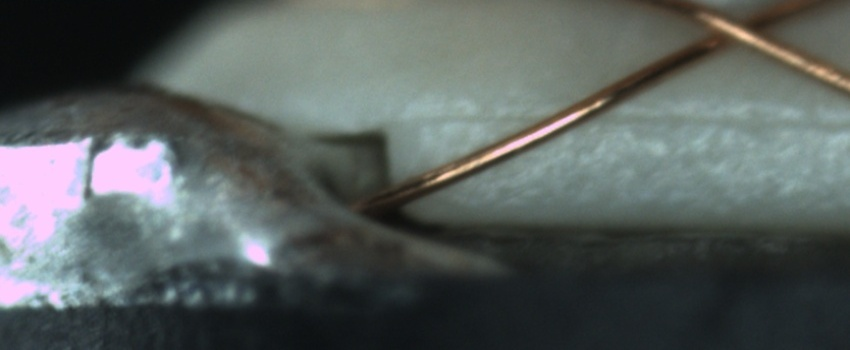CL: (676, 1, 801, 60)
DL: (417, 87, 850, 147)
